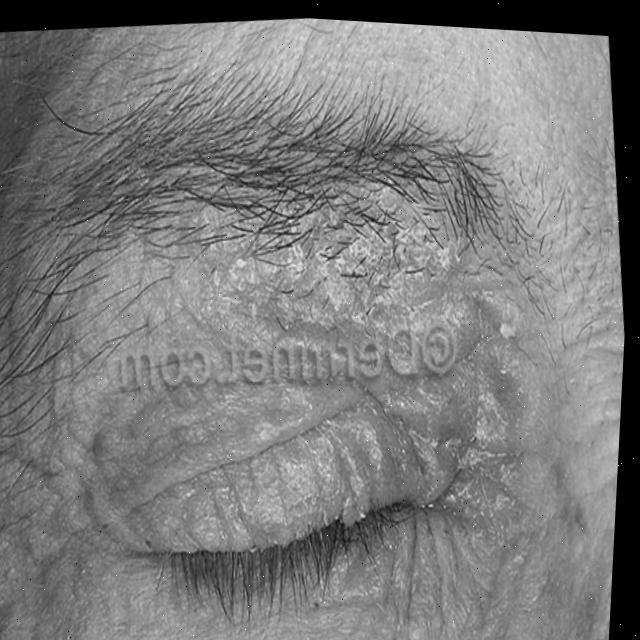Eczema: (150, 105, 465, 351)
